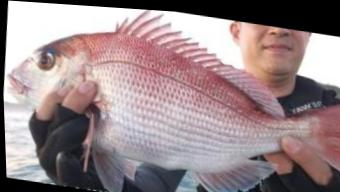fish: (7, 7, 340, 192)
